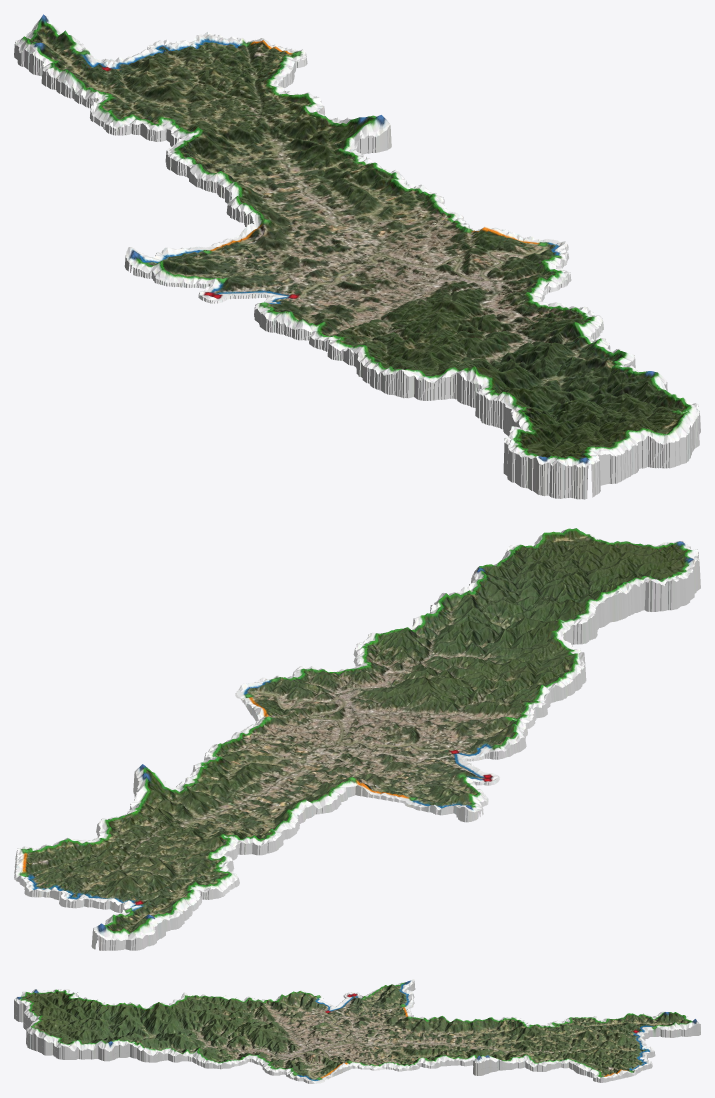
3 views of the same model, one above another, from view 1: azimuth 30°, elevation 25°; view 2: azimuth 150°, elevation 25°; view 3: azimuth 270°, elevation 25° (orthographic). The views are drawn at different scales.
Size of the model in its own units: 1 by 0.0986 by 2.98.
Materials: 1 (1 with a texture image).
